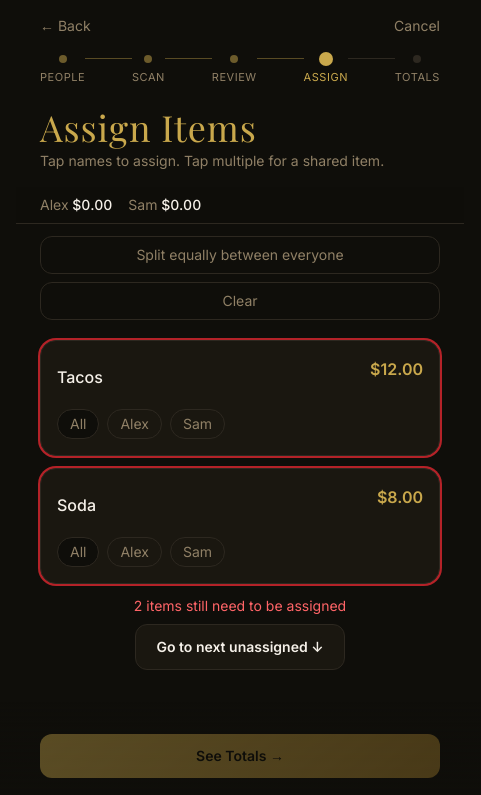
Test: new split: the receipt subtotal survives editing › still warns after going on to Assign and coming back
The image size is (481, 795).
Click the button "← Back": (65, 26) [40,16,91,36]
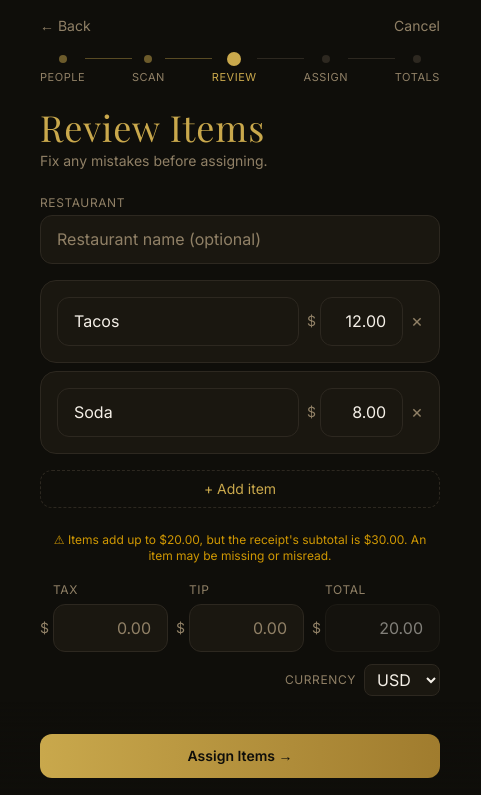
Now the message with test id "subtotal-mismatch" shows "$30.00", box [364,532,404,546]
